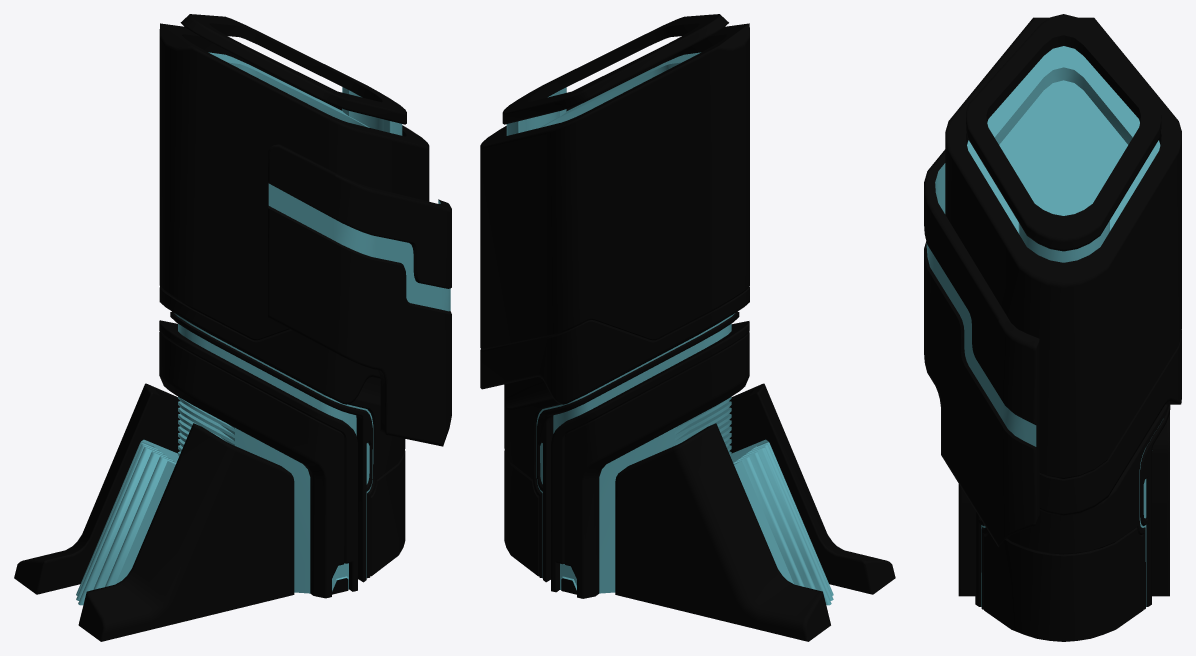
Rendered from building3.obj.
3 views of the same model, side by side, from view 1: azimuth 30°, elevation 25°; view 2: azimuth 150°, elevation 25°; view 3: azimuth 270°, elevation 25° (orthographic). The views are drawn at different scales.
Visible parts, largest first — view 1: Tower_04.smd; view 2: Tower_04.smd; view 3: Tower_04.smd.
Part boxes in pixels (left/top/right/bottom): Tower_04.smd: left=14, top=14, right=451, bottom=641; Tower_04.smd: left=480, top=14, right=895, bottom=641; Tower_04.smd: left=924, top=14, right=1181, bottom=641.
Size of the model in its own units: 41.84 by 59.34 by 26.04.
